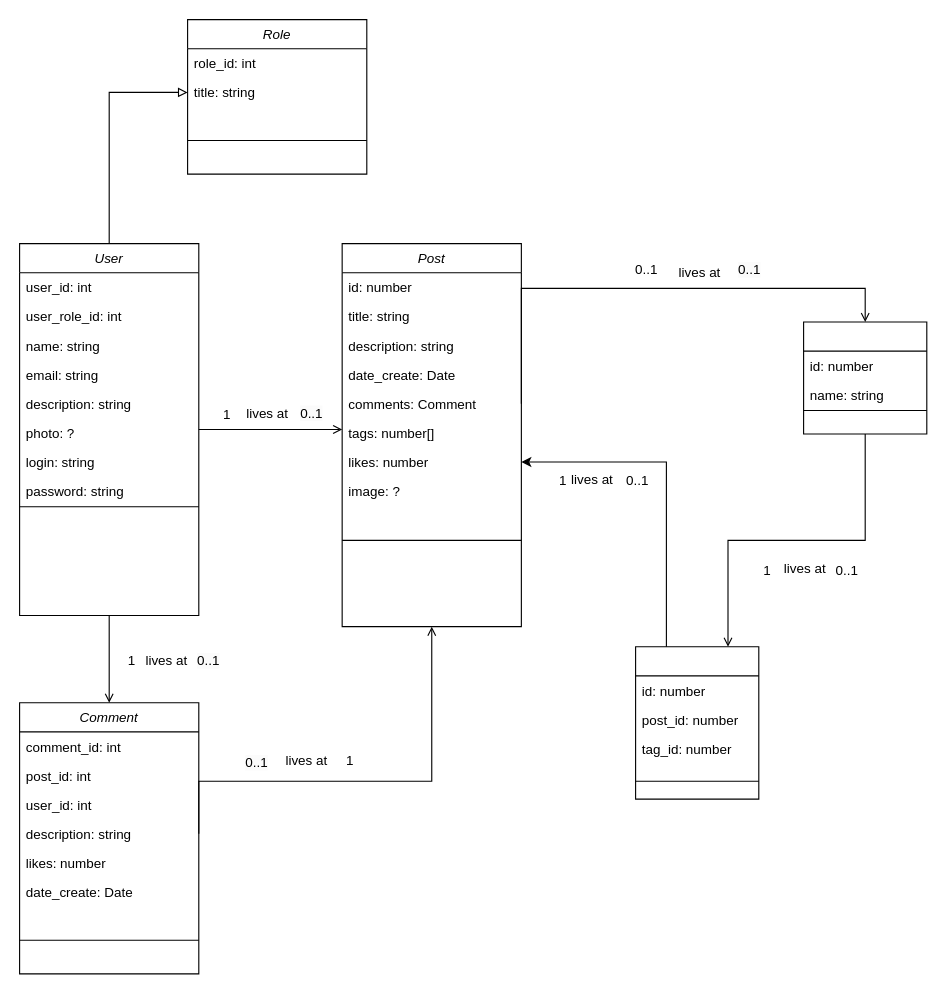
The diagram is 946 pixels wide and 993 high, and some of its shapes have lost their labels. Each missing label, with the box of its shape:
Post_Tag: (634, 646, 759, 799)
Tag: (802, 321, 927, 434)
